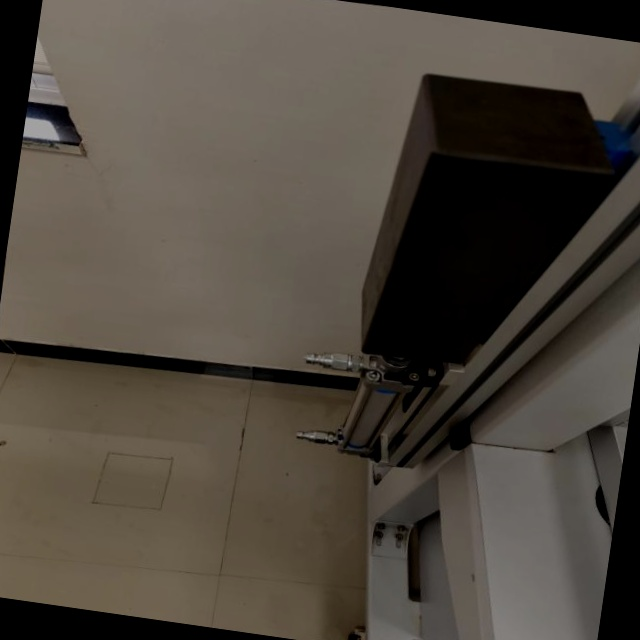load: (277, 51, 640, 498)
